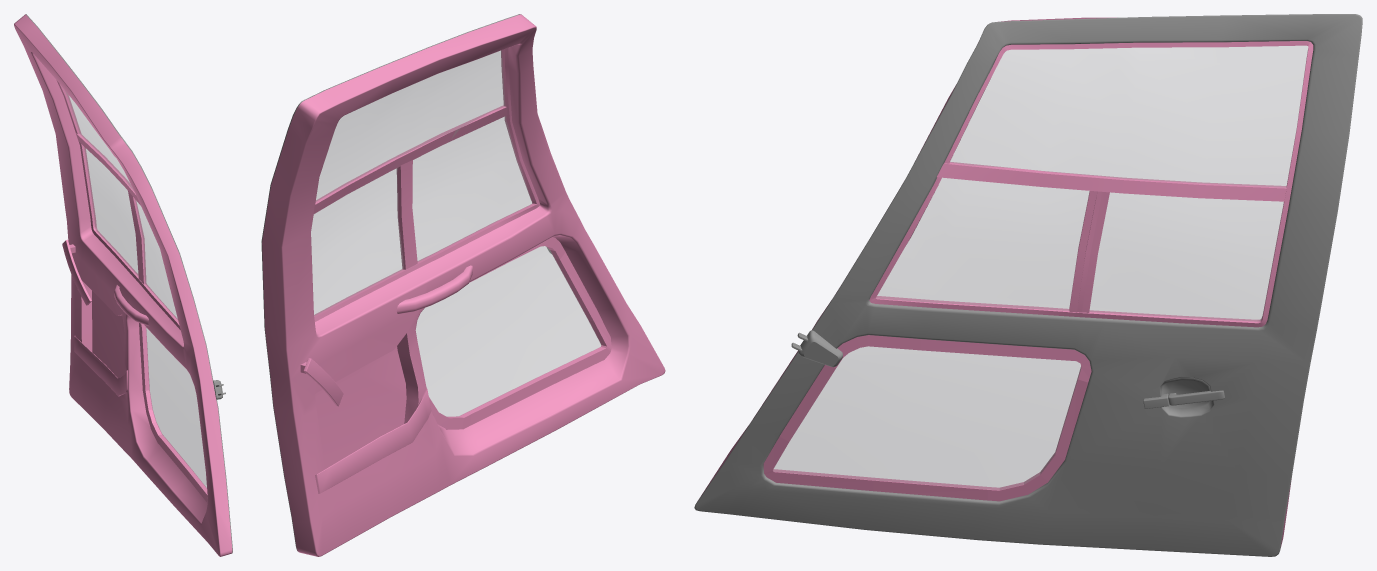
File: H155_men02.FBX
3 views of the same model, side by side, from view 1: azimuth 30°, elevation 25°; view 2: azimuth 150°, elevation 25°; view 3: azimuth 270°, elevation 25° (orthographic). The views are drawn at different scales.
Parts seen in each view (by area): view 1: H155_men02, menbashou; view 2: H155_men02, menbashou; view 3: H155_men02.
Part boxes in pixels (<box>): H155_men02: <box>14,14,232,556</box>; menbashou: <box>62,239,91,305</box>; H155_men02: <box>261,14,665,556</box>; menbashou: <box>303,358,343,406</box>; H155_men02: <box>694,14,1362,556</box>.
Size of the model in its own units: 0.3103 by 1.24 by 1.45.
